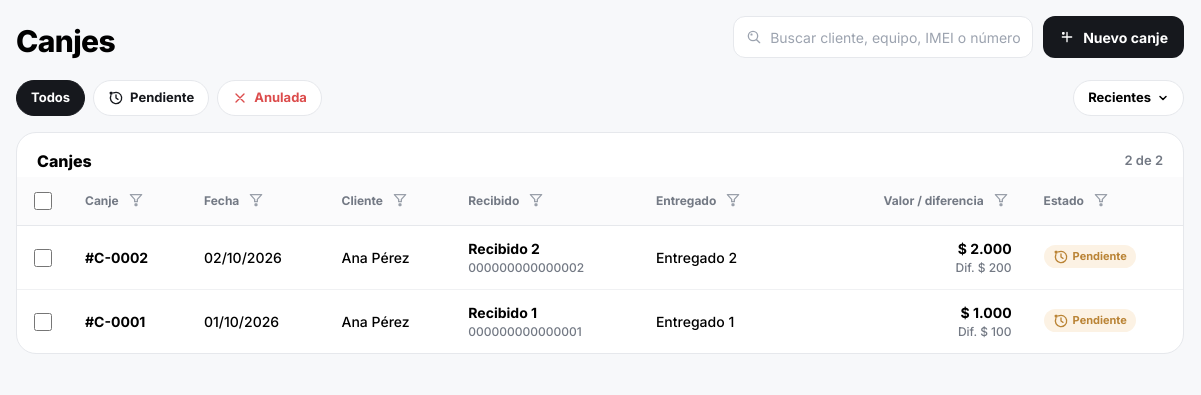
it: Trade-ins table › searches client, equipment and IMEI and shows an explicit empty result
Type "Ana Pérez" into the field with placeholder "Buscar cliente, equipo, IMEI o número".
click(895, 37); type("Ana Pérez")  # box [770,26,1020,48]
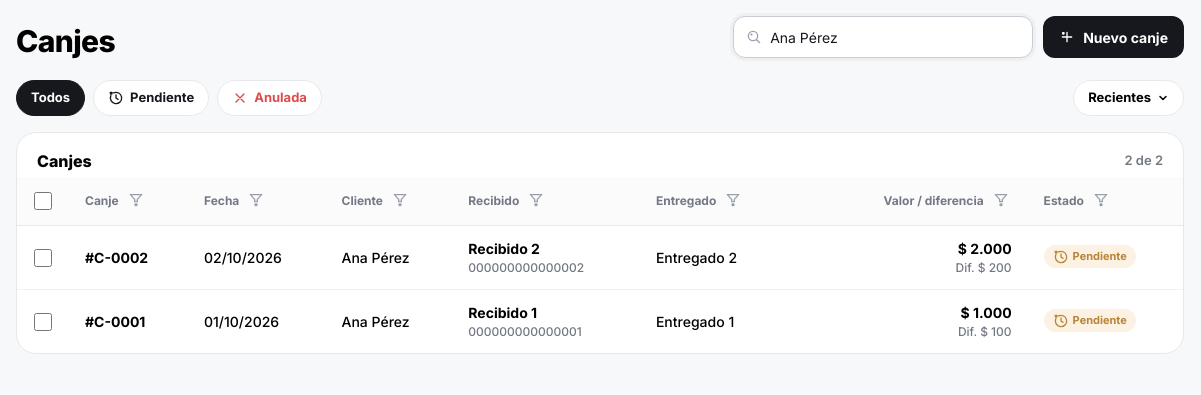
Replace the text in the field with placeholder "Buscar cliente, equipo, IMEI o número" with "Entregado 2" at (895, 37), box [770,26,1020,48]
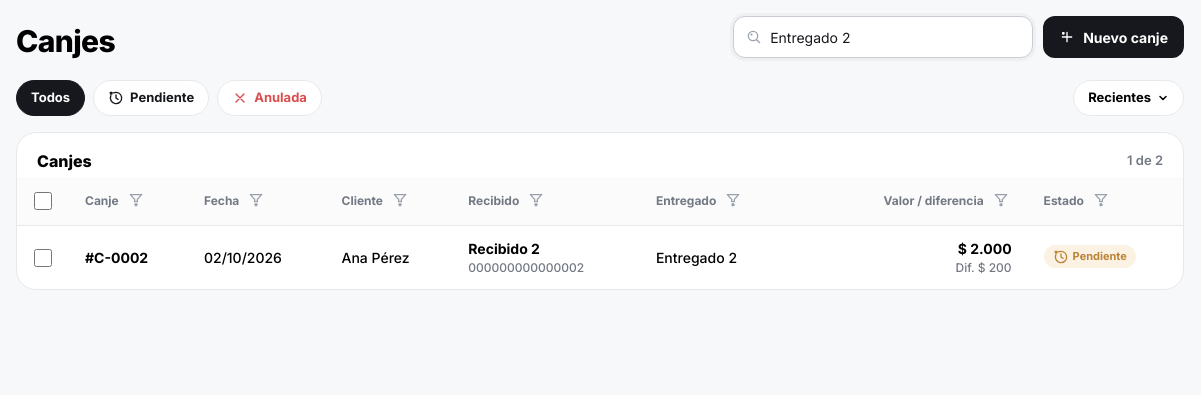
Replace the text in the field with placeholder "Buscar cliente, equipo, IMEI o número" with "000000000000001" at (895, 37), box [770,26,1020,48]
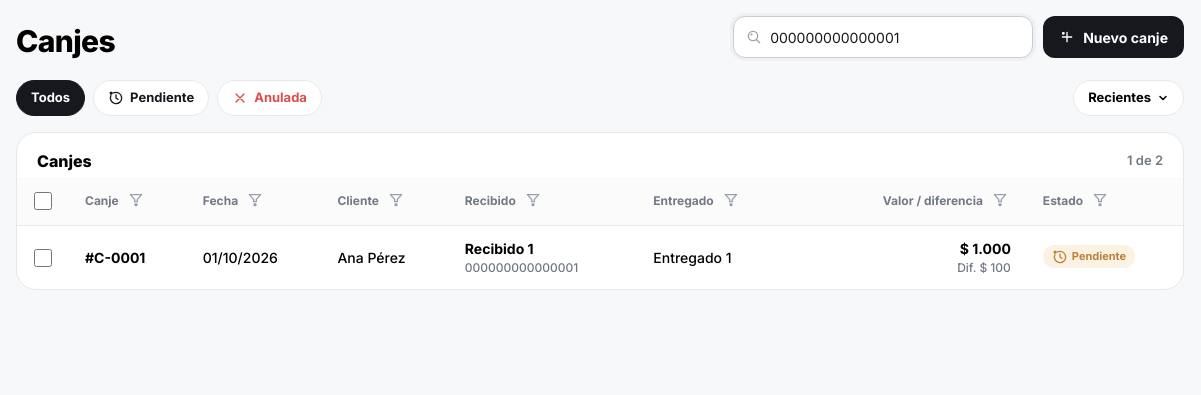
Replace the text in the field with placeholder "Buscar cliente, equipo, IMEI o número" with "No existe" at (895, 37), box [770,26,1020,48]
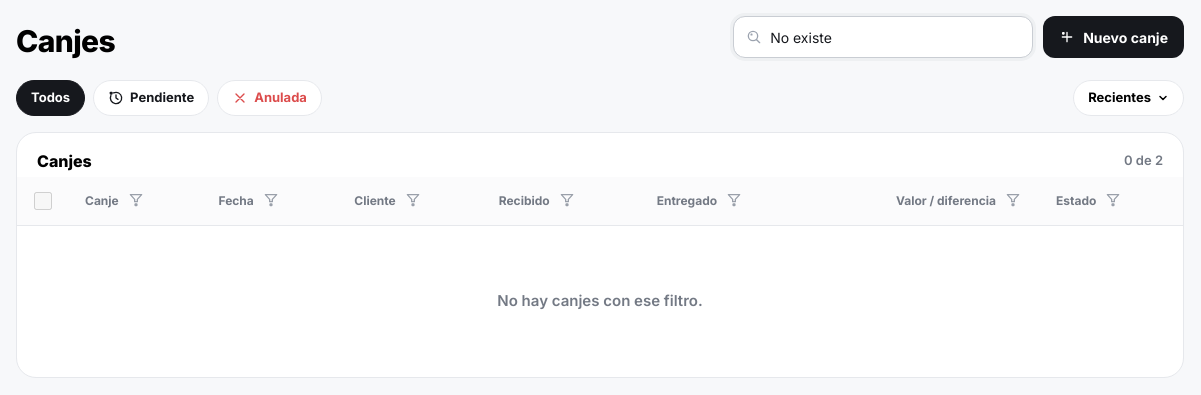
Expected: the column heading "Canje" is shown, [69,177,202,226]
Expected: the text "0 de 2" is shown, [1124,151,1163,171]
